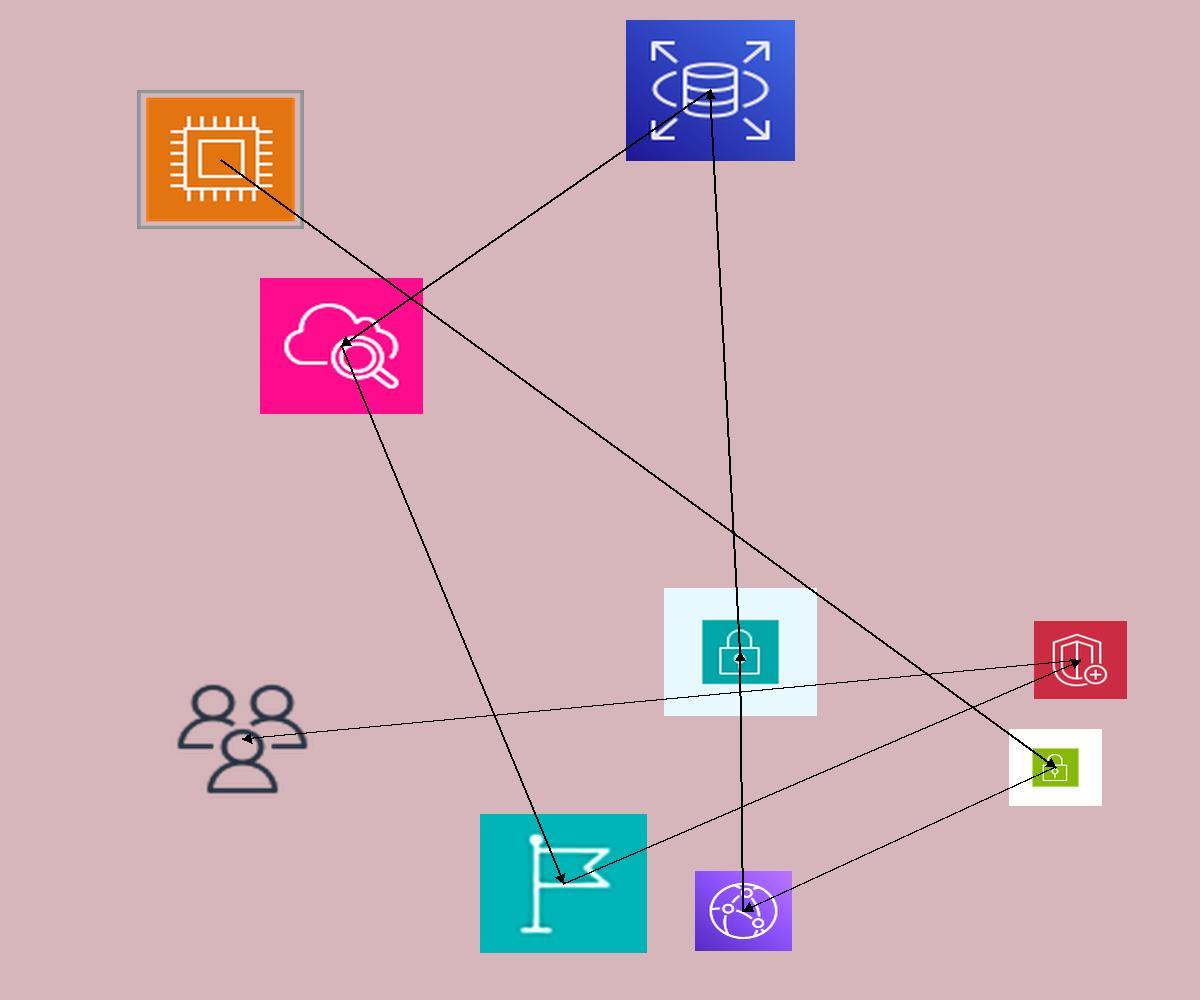AWS-Category_Compute: (137, 90, 304, 229)
AWS-CloudFront: (695, 871, 792, 951)
AWS-CloudWatch: (260, 278, 423, 414)
AWS-Private-subnet: (664, 588, 817, 716)
AWS-Public-subnet: (1009, 729, 1102, 806)
AWS-RDS: (626, 20, 795, 161)
AWS-Region: (480, 814, 647, 953)
AWS-Res_Users: (172, 680, 313, 798)
AWS-Shield: (1034, 621, 1127, 699)
